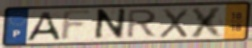A: (24, 11, 63, 43)
F: (59, 8, 96, 43)
N: (92, 7, 128, 42)
R: (124, 8, 160, 40)
X: (188, 6, 226, 39), (158, 7, 190, 39)
